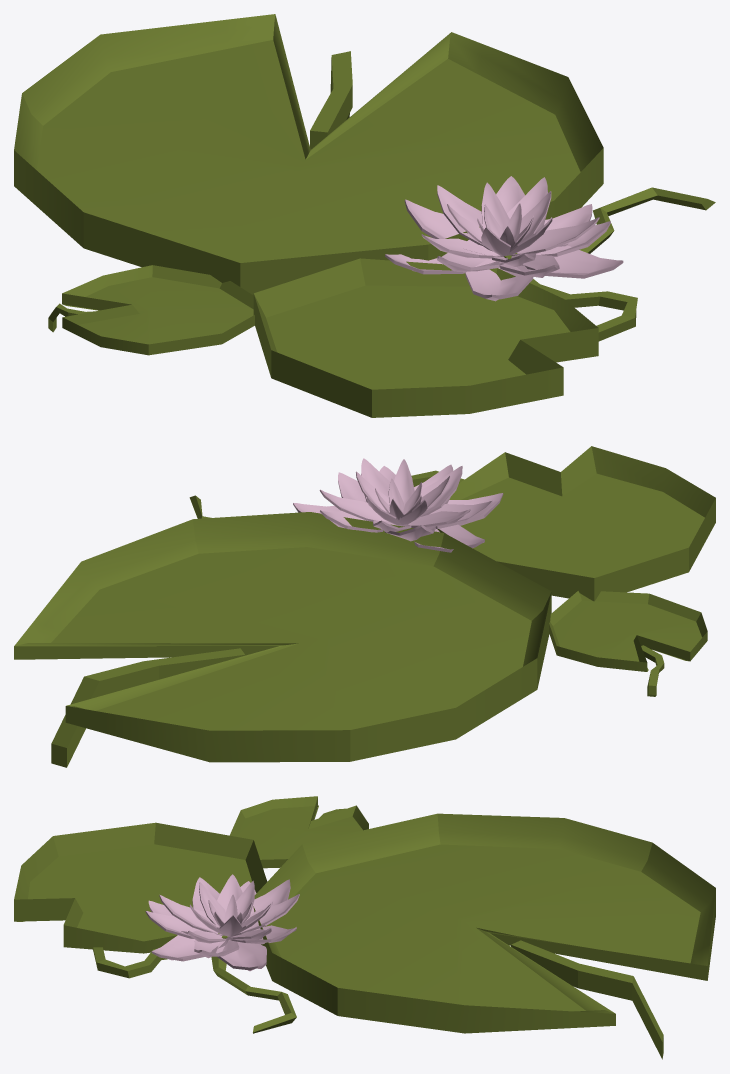
Rendered from art_3dobjects_water_crop_stage3.fbx.
3 views of the same model, one above another, from view 1: azimuth 30°, elevation 25°; view 2: azimuth 150°, elevation 25°; view 3: azimuth 270°, elevation 25° (orthographic). The views are drawn at different scales.
Parts seen in each view (by area): view 1: water_stage3; view 2: water_stage3; view 3: water_stage3.
Part boxes in pixels (<box>): water_stage3: <box>14,14,715,417</box>; water_stage3: <box>14,446,715,767</box>; water_stage3: <box>14,796,715,1059</box>.
Bounding box in the file's own units: 48.68 × 11.42 × 61.83.
